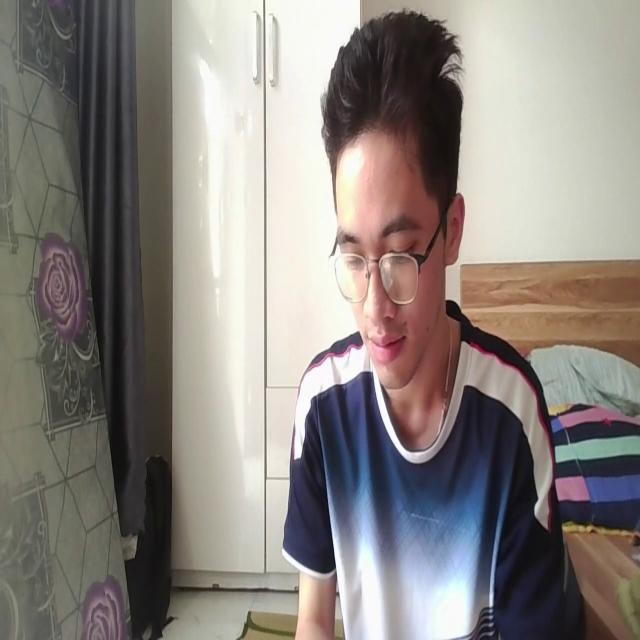student: (282, 2, 562, 640)
